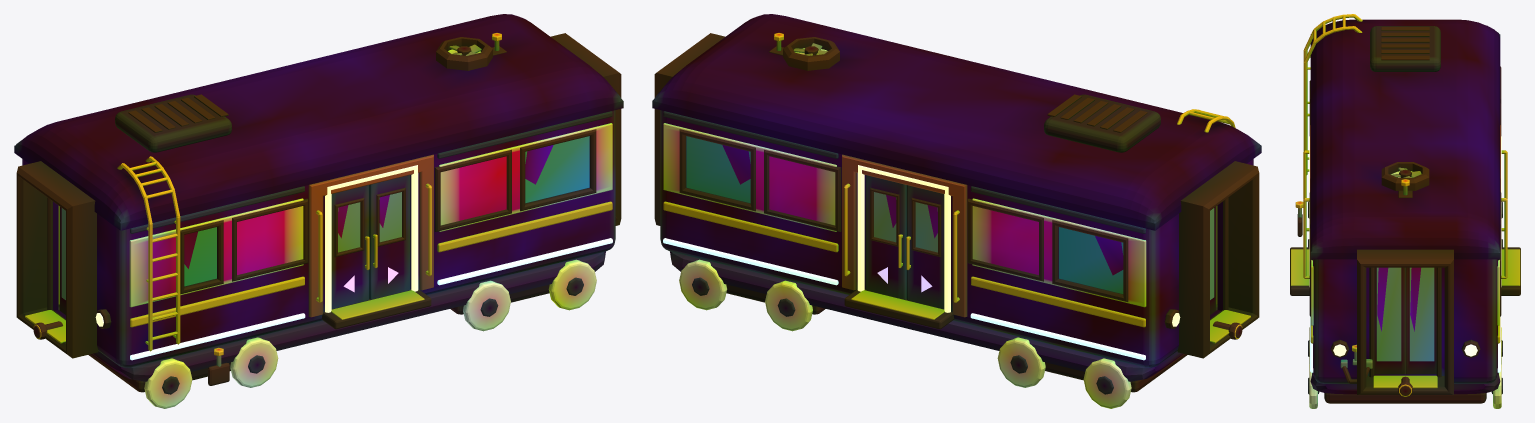
The model's file is FuturisticCoach_Blockout.fbx.
The picture shows the model from 3 angles, left to right: view 1: azimuth 30°, elevation 25°; view 2: azimuth 150°, elevation 25°; view 3: azimuth 270°, elevation 25°; orthographic projection. The views are drawn at different scales.
Visible parts, largest first — view 1: Roof, Body, Ends, Underframe, WindowBand, Windows, Livery, SideDoorLeaf_R, DoorPortal, SideDoorLeaf_L, SideDoorSill, RoofLadder (+2 smaller); view 2: Roof, Body, Underframe, Ends, Windows, WindowBand, Livery, SideDoorLeaf_R_Far, DoorPortal, SideDoorLeaf_L_Far, SideDoorSill_Far, SideDoorFrame_Far (+1 smaller); view 3: Roof, Body, Ends, EndDoorLeaf_L_Front, EndDoorLeaf_R_Front, Underframe, SideDoorSill, SideDoorSill_Far, RoofLadder, Windows, WindowBand, Livery (+1 smaller).
Part boxes in pixels (x1,y1,x2,y2): Roof: [14, 14, 623, 230]; Body: [22, 110, 615, 367]; Ends: [16, 33, 621, 358]; Underframe: [88, 251, 605, 408]; WindowBand: [129, 123, 612, 307]; Windows: [180, 129, 596, 294]; Livery: [130, 111, 612, 360]; SideDoorLeaf_R: [369, 175, 410, 299]; DoorPortal: [308, 154, 433, 317]; SideDoorLeaf_L: [331, 185, 369, 308]; SideDoorSill: [316, 183, 431, 329]; RoofLadder: [117, 156, 180, 351]; Roof: [652, 14, 1261, 230]; Body: [660, 110, 1253, 367]; Underframe: [670, 251, 1187, 408]; Ends: [654, 33, 1259, 358]; Windows: [679, 129, 1128, 301]; WindowBand: [663, 123, 1146, 307]; Livery: [663, 111, 1145, 360]; SideDoorLeaf_R_Far: [865, 175, 906, 299]; DoorPortal: [842, 154, 967, 317]; SideDoorLeaf_L_Far: [906, 185, 944, 308]; SideDoorSill_Far: [844, 183, 959, 329]; SideDoorFrame_Far: [857, 165, 950, 312]; Roof: [1310, 19, 1500, 259]; Body: [1313, 259, 1497, 383]; Ends: [1330, 249, 1480, 394]; EndDoorLeaf_L_Front: [1374, 267, 1405, 374]; EndDoorLeaf_R_Front: [1405, 267, 1436, 374]; Underframe: [1308, 202, 1502, 408]; SideDoorSill: [1290, 150, 1309, 295]; SideDoorSill_Far: [1501, 150, 1520, 295]; RoofLadder: [1303, 14, 1362, 174]; Windows: [1309, 66, 1501, 316]; WindowBand: [1311, 260, 1499, 325]; Livery: [1310, 259, 1500, 372].
Size of the model in its own units: 8.16 by 3.33 by 3.24.
